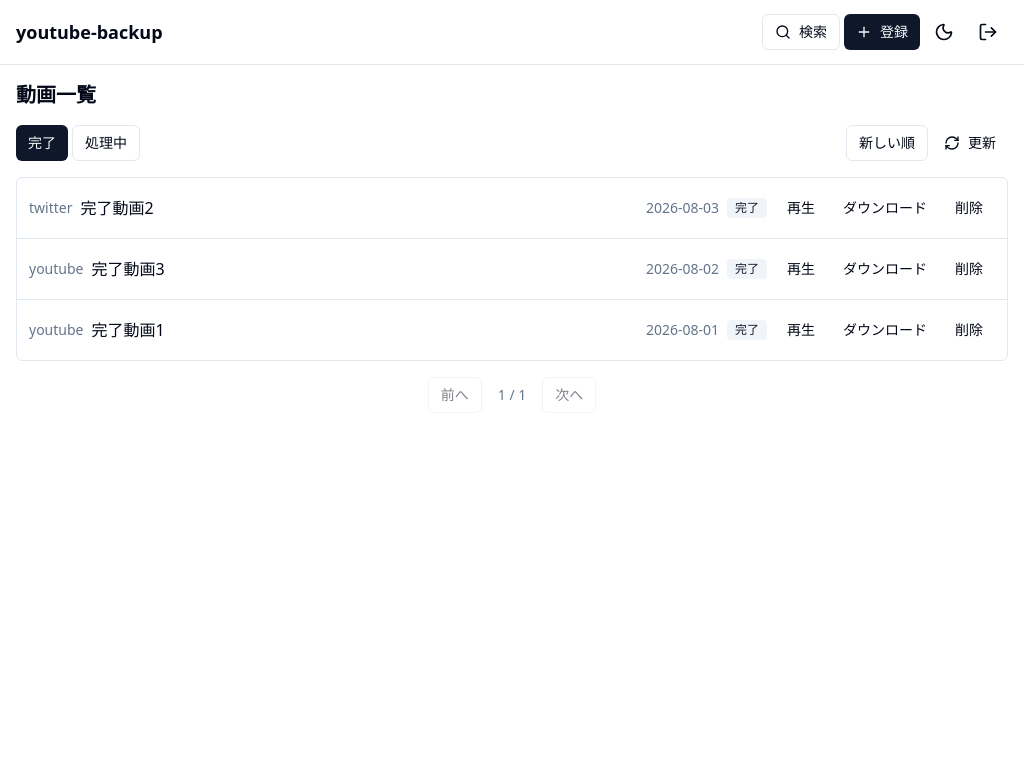
Test: 動画検索 結合（ヘッダ→ダイアログ→検索 / US3.1・FR3.1・C5・OQ-C2） › ヘッダ検索から存在 id を検索すると詳細が表示され、complete は再生ナビを提供する（FR3.1/OQ-C2）
Click the button with aria-label "動画を検索" at (801, 32), box x1=762 y1=14 x2=840 y2=50
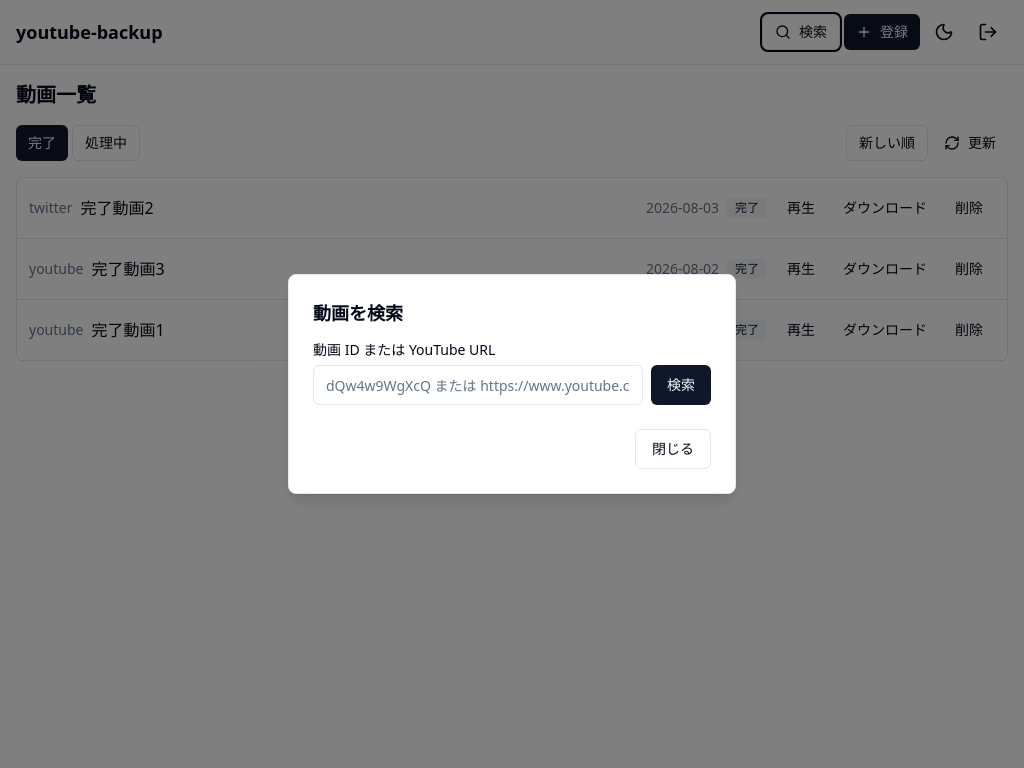
Expected: the dialog is shown, x1=288 y1=274 x2=736 y2=494
Type "v1" into the field labelled "動画 ID または YouTube URL" at (478, 385), box x1=313 y1=365 x2=643 y2=405
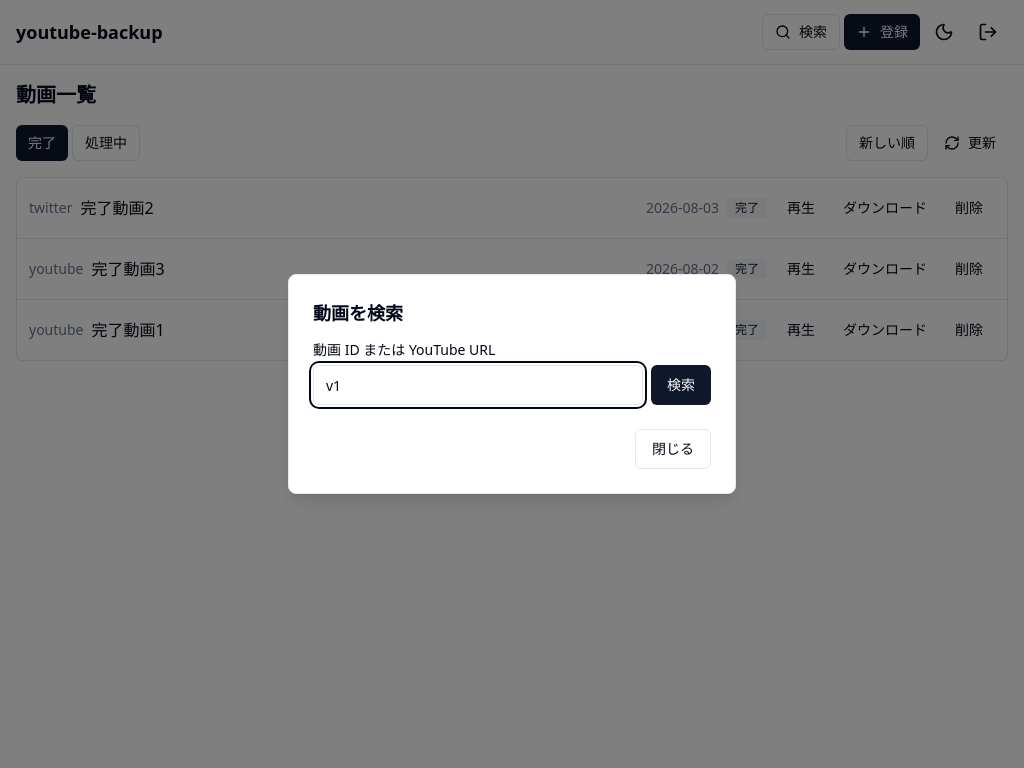
Click the button "検索" at (681, 385), box x1=651 y1=365 x2=711 y2=405
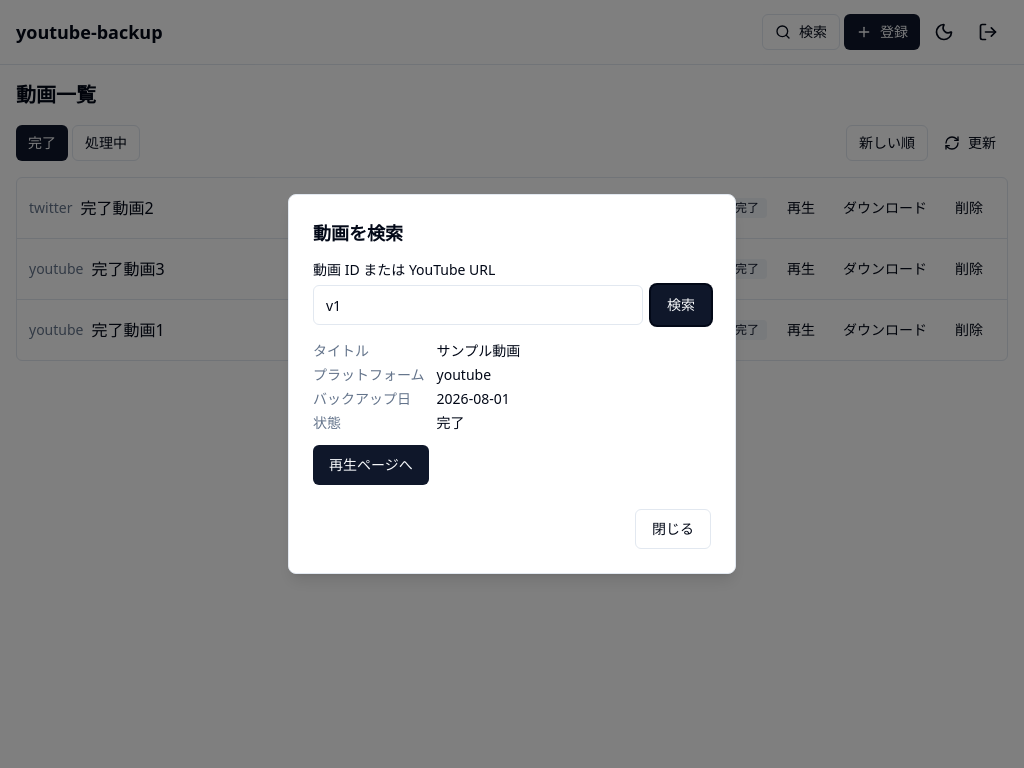
Expected: the element with test id "search-result" is shown, x1=313 y1=341 x2=520 y2=485
Expected: the text "サンプル動画" is shown, x1=437 y1=341 x2=520 y2=360
Expected: the button "再生ページへ" is shown, x1=313 y1=445 x2=429 y2=485
